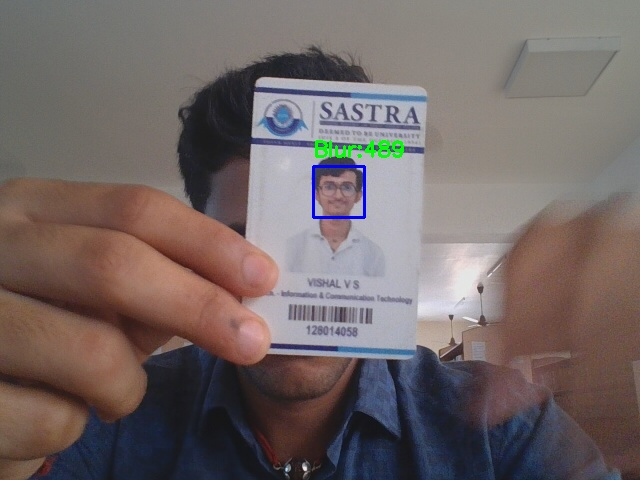fake: (313, 166, 364, 217)
